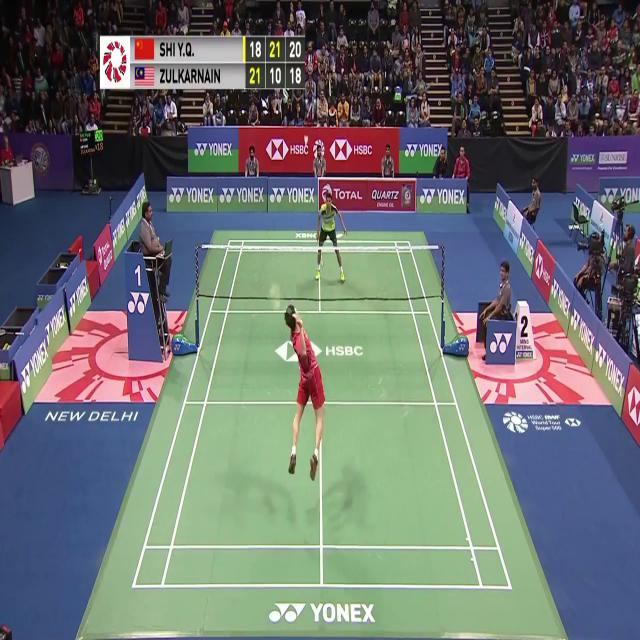Shuttlecock: (302, 138, 309, 150)
